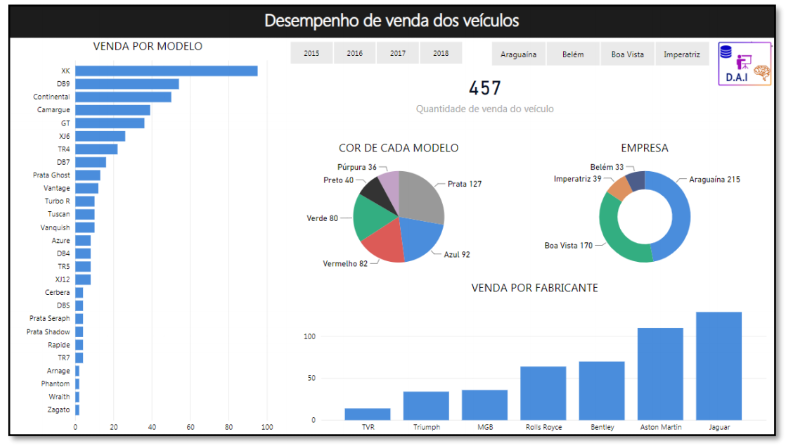

Layout of this report page (visuals, bound fields, positions):
{"tool":"powerbi","page":{"name":"Veiculos","canvas":[1280,720],"ordinal":1},"visuals":[{"type":"textbox","box":[0,0,1279.2,55],"z":0},{"type":"donutChart","title":"EMPRESA","fields":{"Y":["Sum(Faturamento.FATO VENDA Count)"],"Category":["Faturamento.DIM LOJA.CIDADE"]},"box":[855,223.9,411.6,231.6],"z":1000},{"type":"card","fields":{"Values":["Sum(Faturamento.FATO VENDA Count)"]},"box":[564.1,96.6,461,98.8],"z":2000},{"type":"slicer","fields":{"Values":["Faturamento.DIM TEMPO.ANO"]},"box":[445.6,54.9,334.8,50.5],"z":3000},{"type":"slicer","fields":{"Values":["Faturamento.DIM LOJA.CIDADE"]},"box":[780.4,54.9,410.5,52.7],"z":4000},{"type":"pieChart","title":"COR DE CADA MODELO","fields":{"Category":["Faturamento.DIM VEICULO.COR"],"Y":["Sum(Faturamento.FATO VENDA Count)"]},"box":[447.8,223.9,407.2,231.6],"z":5000},{"type":"clusteredColumnChart","title":"VENDA POR FABRICANTE","fields":{"Category":["Faturamento.DIM VEICULO.FABRICANTE"],"Y":["Sum(Faturamento.FATO VENDA Count)"]},"box":[487.2,455.8,779.8,263.8],"z":6000},{"type":"clusteredBarChart","title":"VENDA POR MODELO","fields":{"Category":["Faturamento.DIM VEICULO.MODELO"],"Y":["Sum(Faturamento.FATO VENDA Count)"]},"box":[20.6,55,427.3,665],"z":7000},{"type":"image","box":[1171.4,27.7,108.6,138.5],"z":8000}]}

Visuals, with their boxes in screenshot pixels (x1, y1, x2, y2), scaled from the page's 1280x720 canvas onto the 785x447 screenshot:
textbox: x1=0 y1=0 x2=784 y2=34
"EMPRESA" donutChart: x1=524 y1=139 x2=777 y2=283
card - Sum(Faturamento.FATO VENDA Count): x1=346 y1=60 x2=629 y2=121
slicer - Faturamento.DIM TEMPO.ANO: x1=273 y1=34 x2=479 y2=65
slicer - Faturamento.DIM LOJA.CIDADE: x1=479 y1=34 x2=730 y2=67
"COR DE CADA MODELO" pieChart: x1=275 y1=139 x2=524 y2=283
"VENDA POR FABRICANTE" clusteredColumnChart: x1=299 y1=283 x2=777 y2=446
"VENDA POR MODELO" clusteredBarChart: x1=13 y1=34 x2=275 y2=446
image: x1=718 y1=17 x2=784 y2=103
